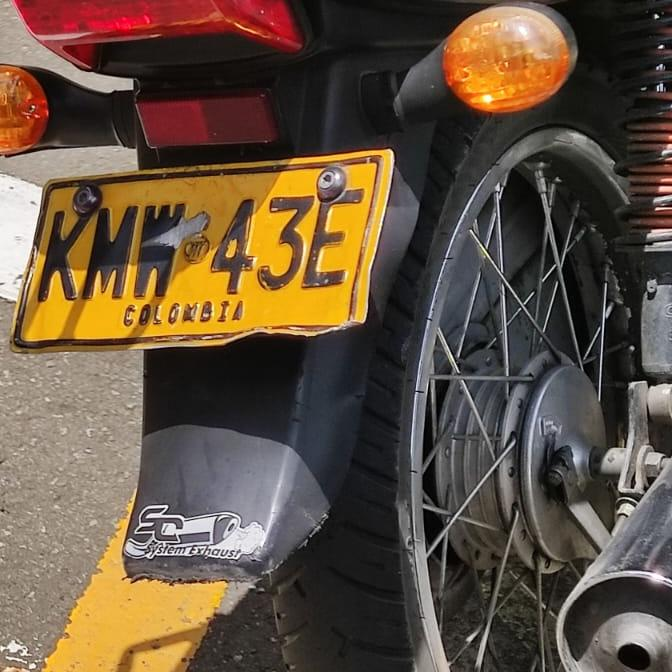plates: (10, 153, 390, 349)
